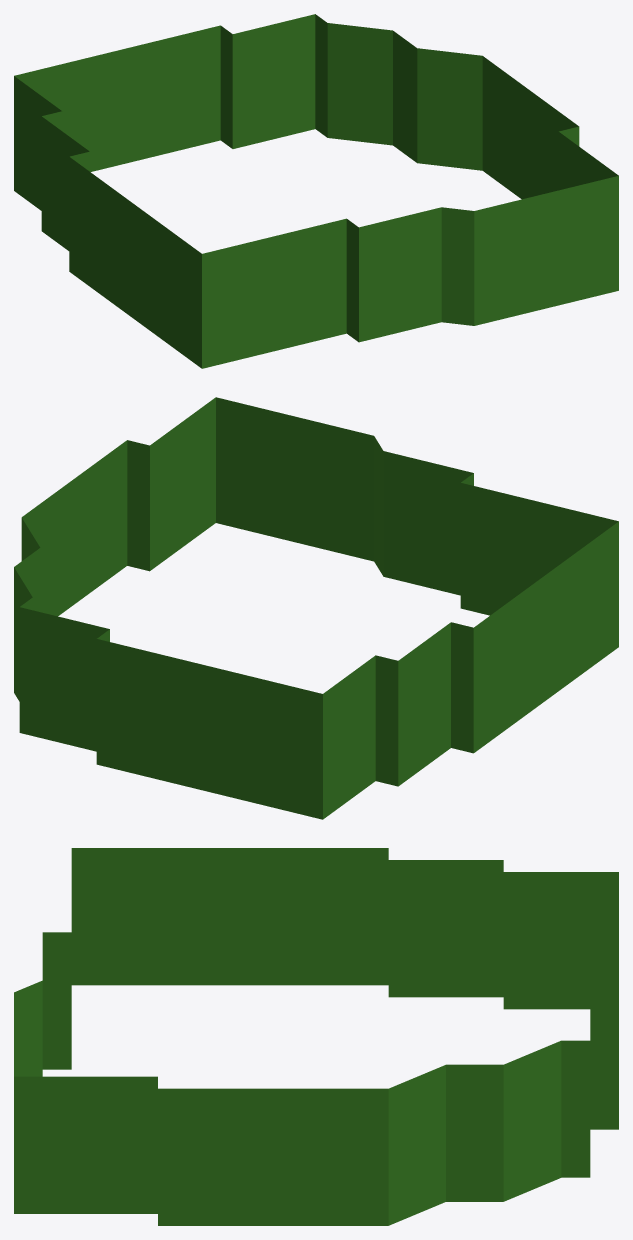
Rendered from paredeinvisivel.fbx.
3 renders of one model, top to bottom at view 1: azimuth 30°, elevation 25°; view 2: azimuth 150°, elevation 25°; view 3: azimuth 270°, elevation 25°, orthographic. The views are drawn at different scales.
Visible parts, largest first — view 1: Piso.001; view 2: Piso.001; view 3: Piso.001.
Part boxes in pixels (<box>): Piso.001: <box>14,14,618,368</box>; Piso.001: <box>14,397,618,819</box>; Piso.001: <box>14,848,618,1225</box>.
Bounding box in the file's own units: 4750 × 1263 × 5047.
